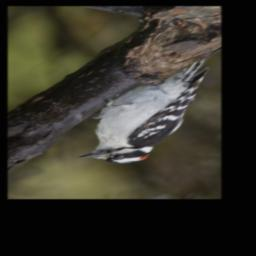Woodpecker: (77, 56, 209, 164)
